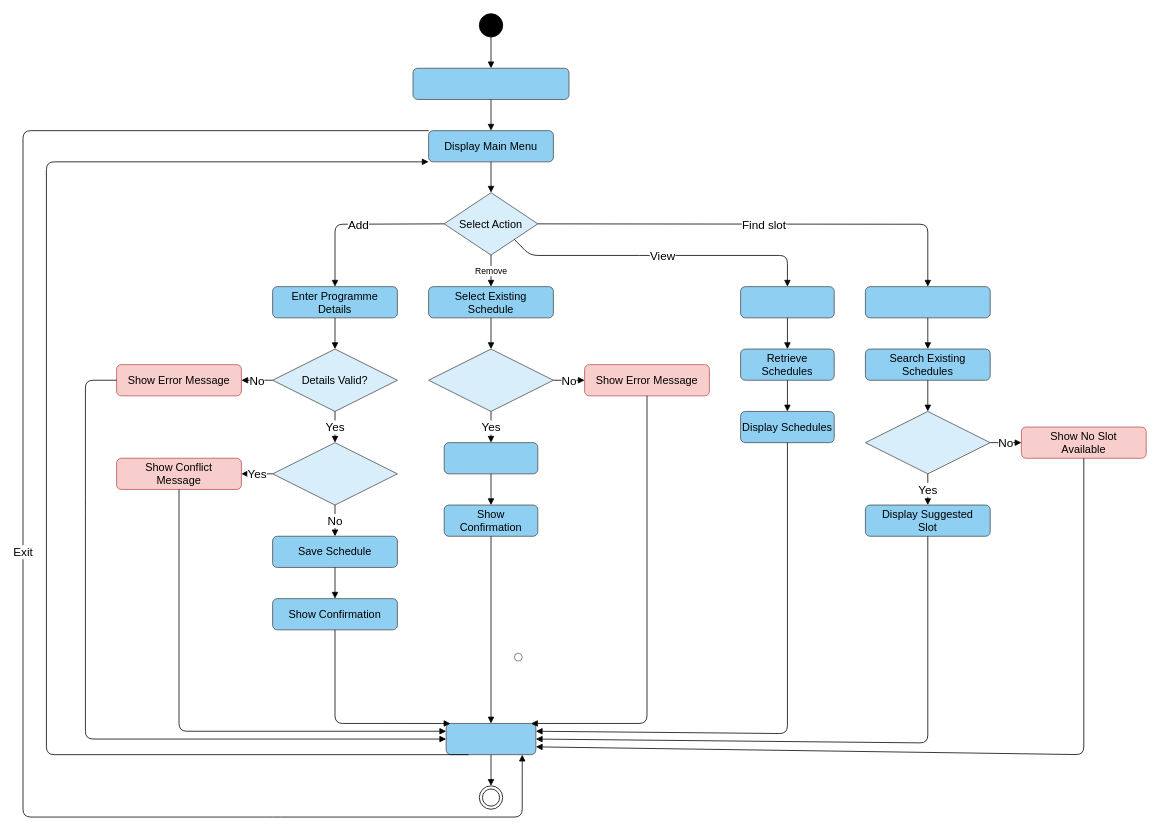
Some shapes in this 1160 by 837 pixel diagram are drawn without their labels. The shapes that lost their labels are listed below. From the top down, each one's centre as x and y in pixels, then its label:
At [490,83]: "Open TV Scheduling System".
At [787,302]: "Select Channel".
At [927,302]: "Enter Slot Criteria".
At [490,379]: "Schedule Found?".
At [490,458]: "Remove Schedule".
At [927,442]: "Free Slot Available?".
At [334,473]: "Time Conflict?".
At [490,739]: "Exit System".
